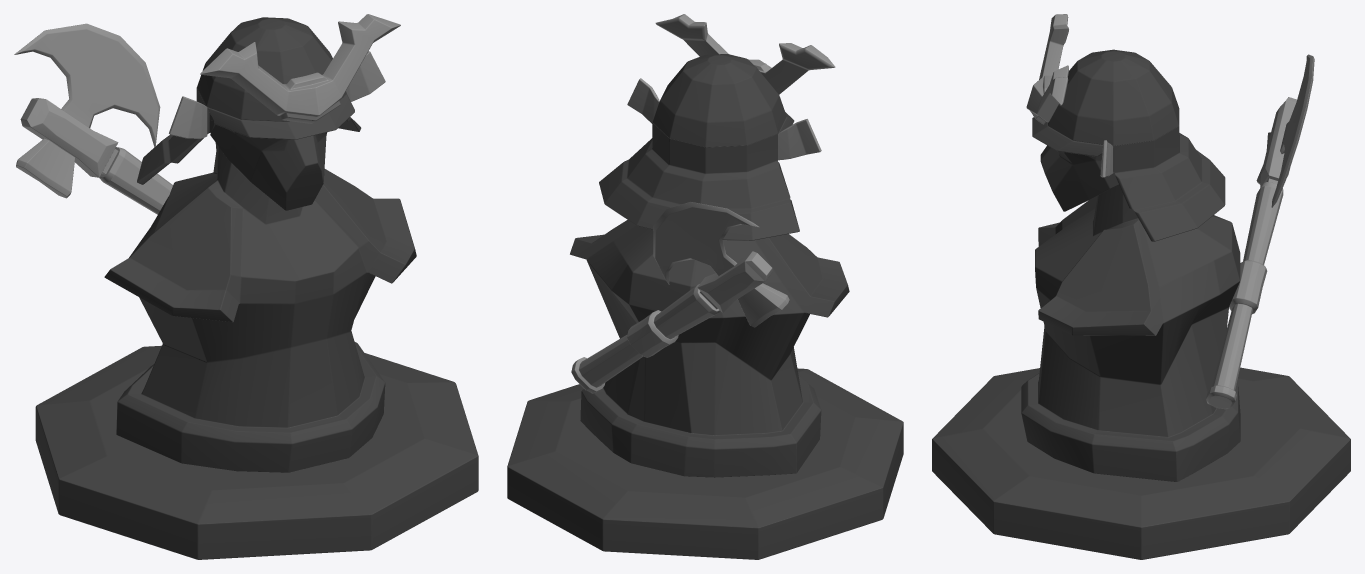
File: samuray_p_b.glb
3 views of the same model, side by side, from view 1: azimuth 30°, elevation 25°; view 2: azimuth 150°, elevation 25°; view 3: azimuth 270°, elevation 25° (orthographic). The views are drawn at different scales.
Parts seen in each view (by area): view 1: b_P4; view 2: b_P4; view 3: b_P4.
Part boxes in pixels (x1,y1,x2,y2): b_P4: (14,14,478,559); b_P4: (507,14,903,559); b_P4: (932,14,1350,559).
Bounding box in the file's own units: 1.65 × 1.89 × 1.65.
Materials: 1 (1 with a texture image).
